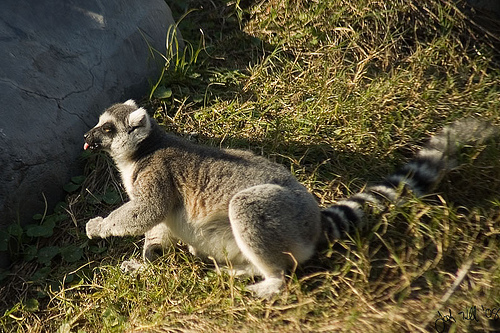cat: (81, 97, 499, 300)
